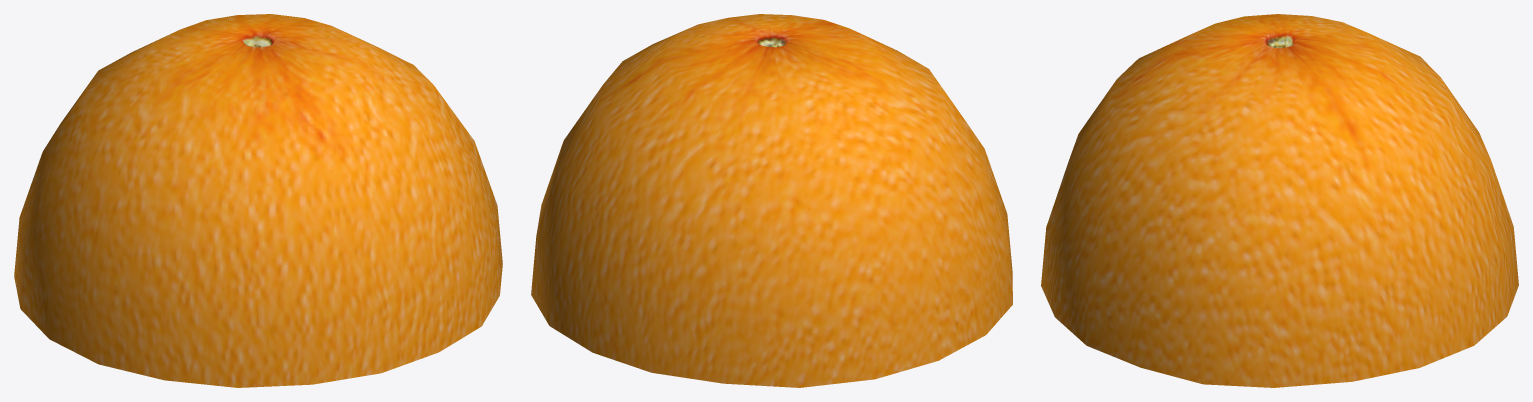
The model's file is GrapefruitHalf.fbx.
3 views of the same model, side by side, from view 1: azimuth 30°, elevation 25°; view 2: azimuth 150°, elevation 25°; view 3: azimuth 270°, elevation 25° (orthographic).
Visible parts, largest first — view 1: GrapefruitHalf; view 2: GrapefruitHalf; view 3: GrapefruitHalf.
Part boxes in pixels (x1=…): GrapefruitHalf: x1=14, y1=14, x2=502, y2=387; GrapefruitHalf: x1=531, y1=14, x2=1012, y2=387; GrapefruitHalf: x1=1041, y1=14, x2=1518, y2=387.
Bounding box in the file's own units: 0.0735 × 0.072 × 0.0407.
